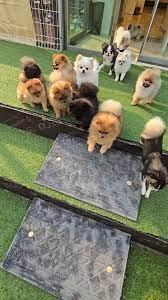dogs: (140, 114, 168, 196), (96, 103, 120, 154), (136, 66, 162, 108), (16, 79, 48, 111), (74, 53, 99, 82), (49, 81, 70, 113), (51, 51, 72, 81), (19, 54, 44, 79), (117, 50, 135, 78), (99, 43, 115, 72)
